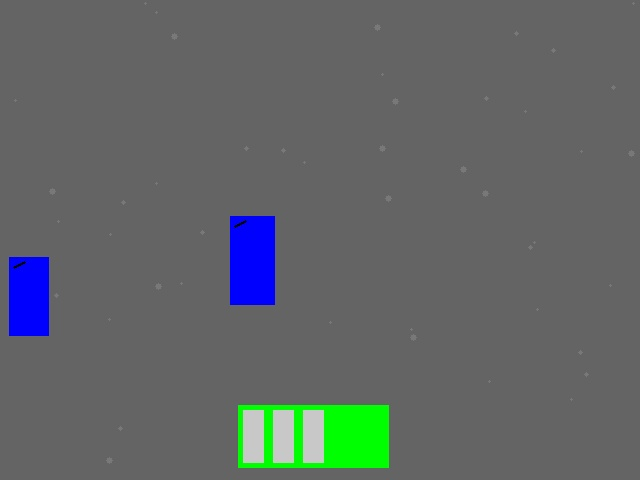bus: (238, 405, 388, 467)
motorcycle: (230, 216, 274, 304), (9, 257, 48, 335)
